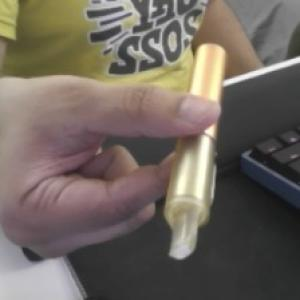Golden-E-Ciggirate: (161, 42, 229, 262)
